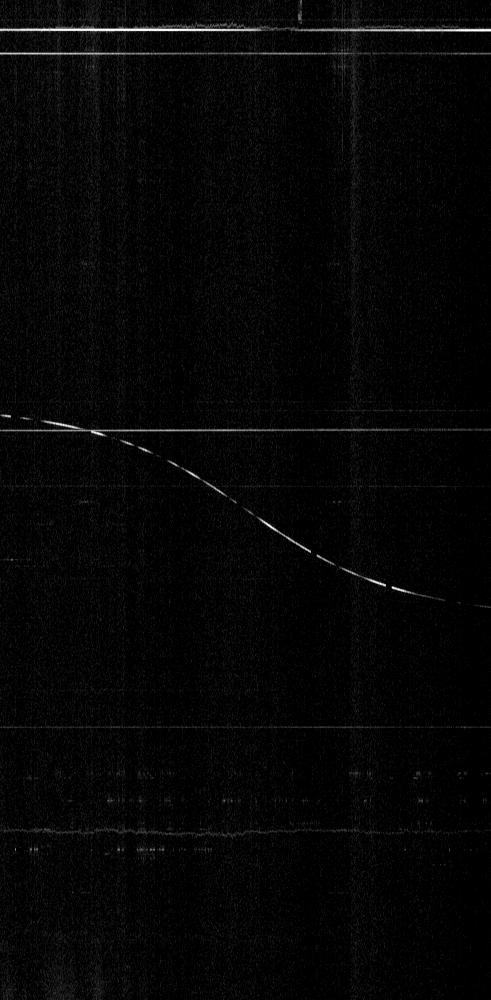signal: (0, 0, 490, 999)
